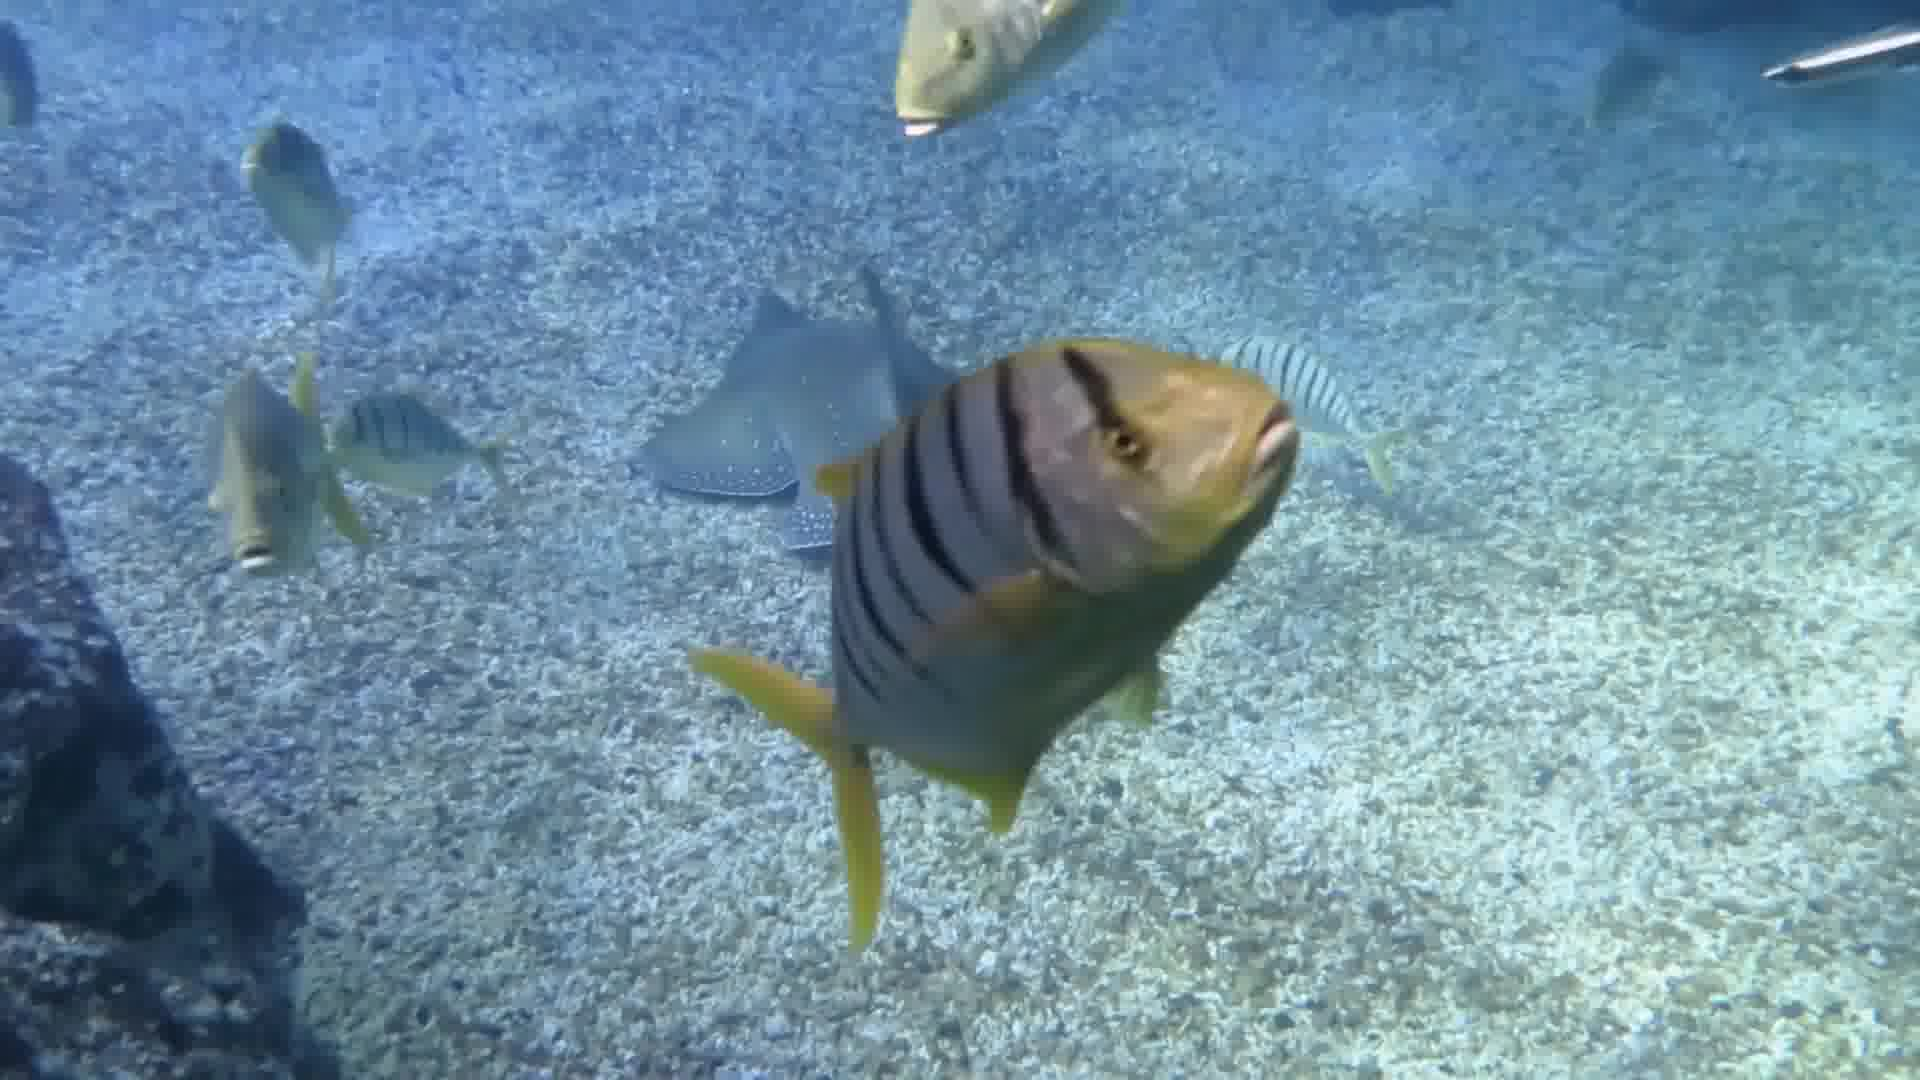Rhychobatus djiddensis: (585, 204, 915, 483)
